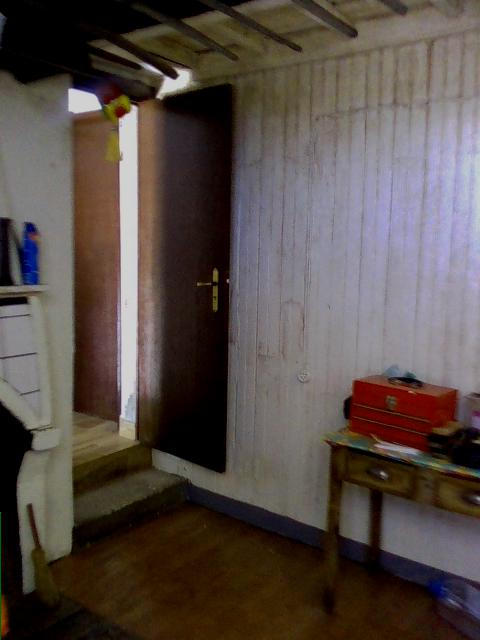open_door: (71, 86, 156, 500)
